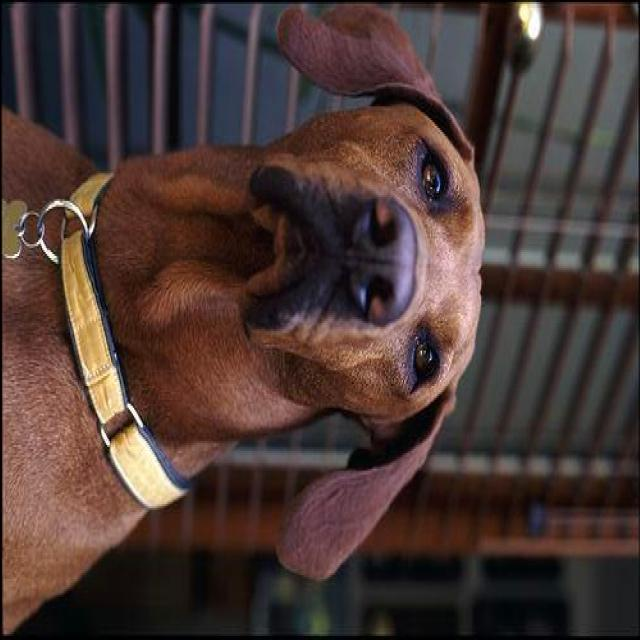rhodesian_ridgeback: (3, 4, 486, 638)
